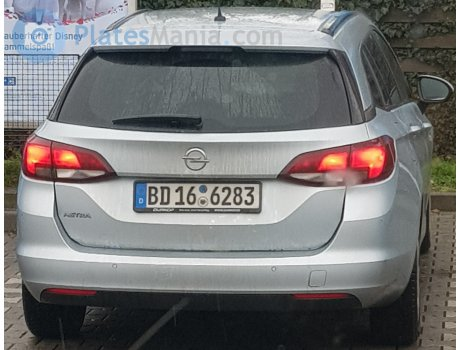License Plates: (148, 182, 255, 206)
